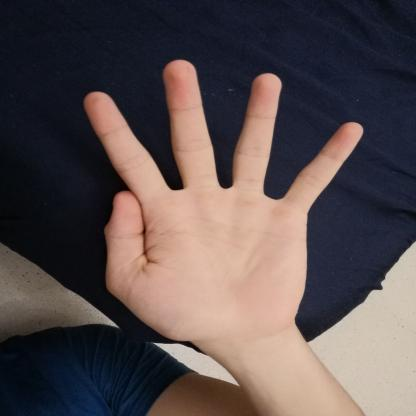SHEEN: (68, 51, 377, 352)
